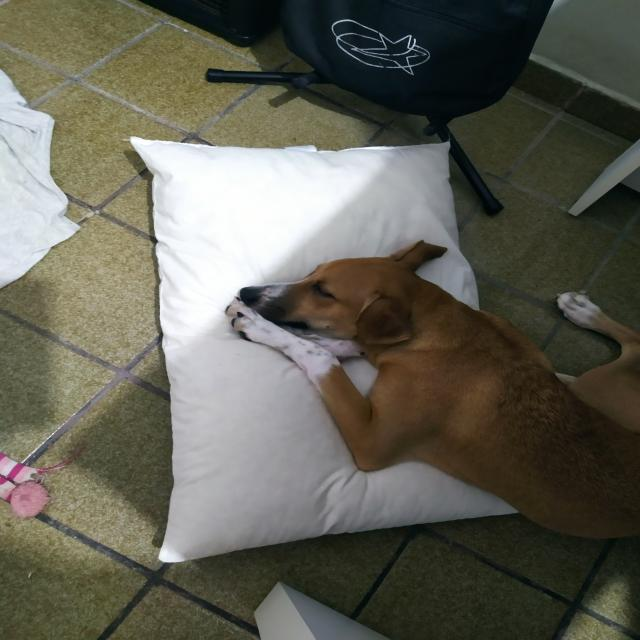laying down: (224, 238, 640, 546)
